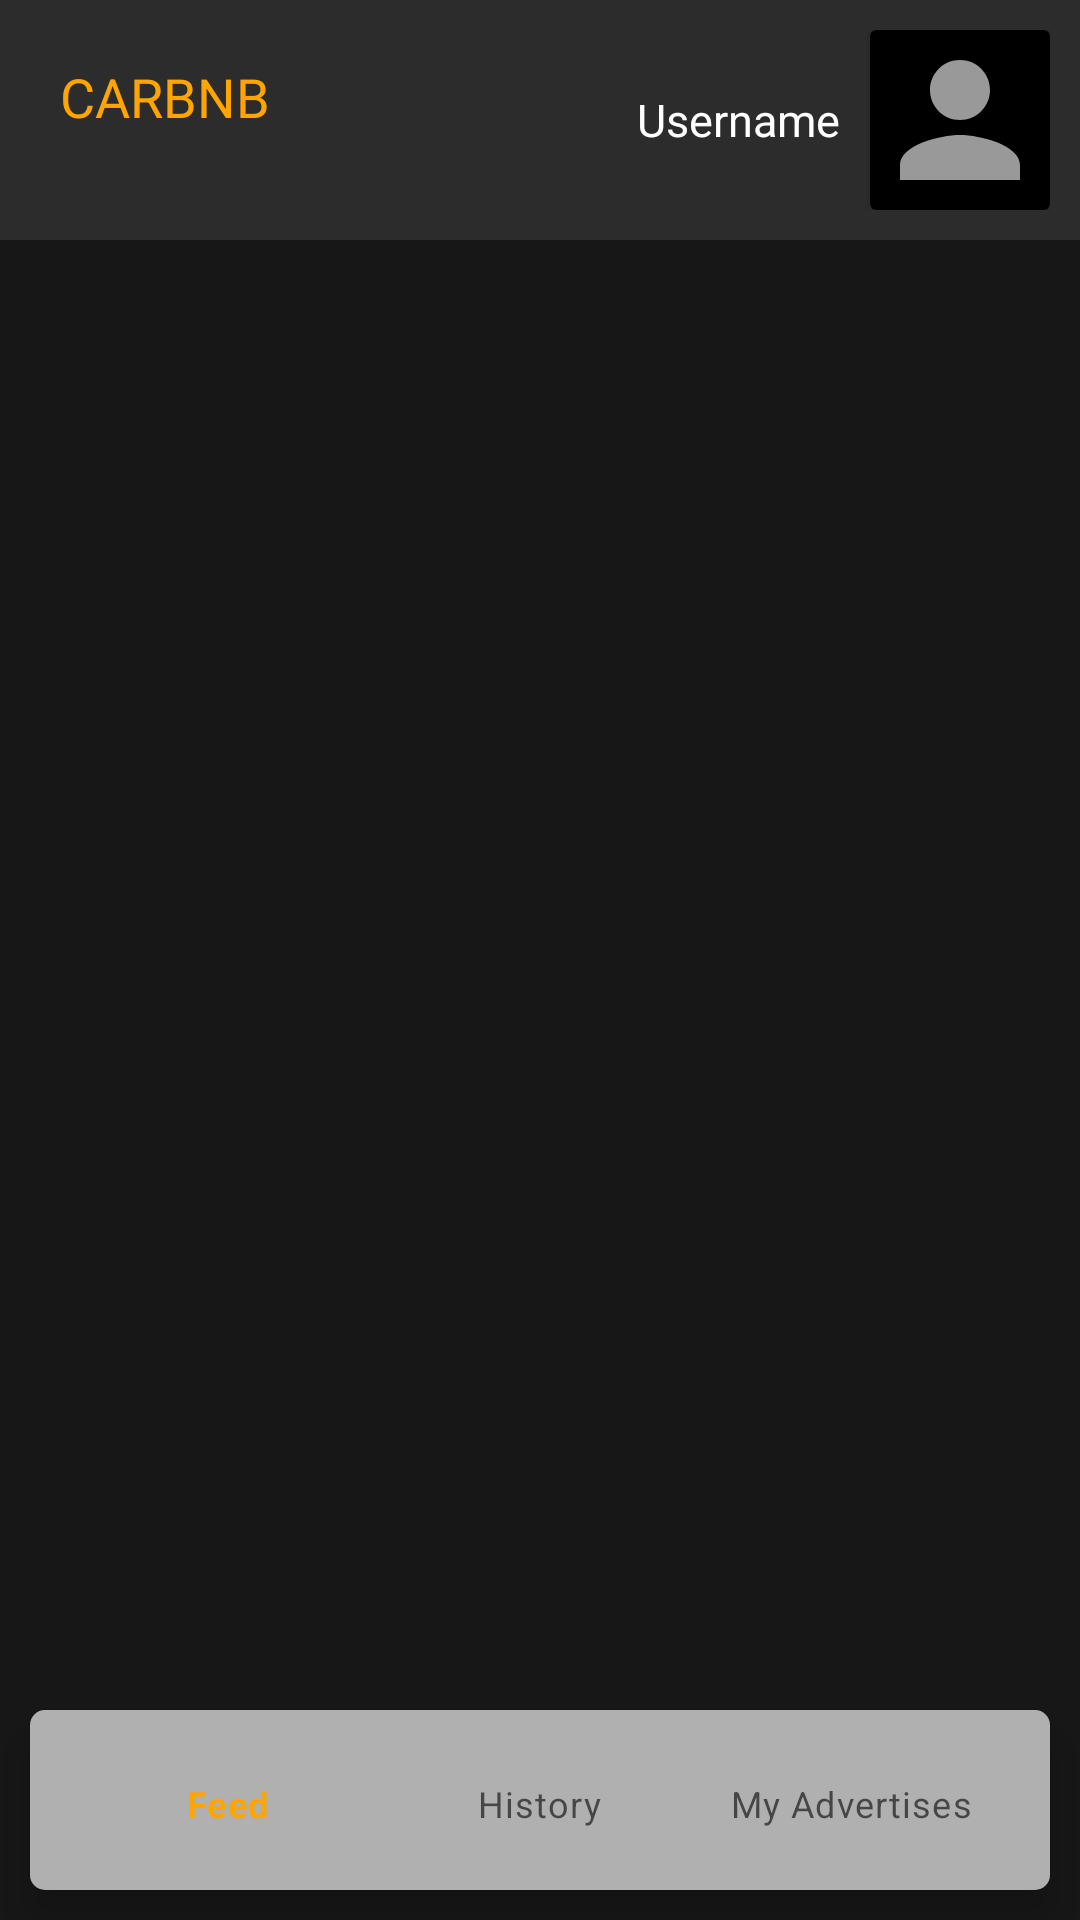

Named icons in this screenshot (1080 × 1920) and their bounding boxes, [left=x1, top=y1, right=x2, bottom=y2]:
noprofile: [left=870, top=30, right=1050, bottom=210]
